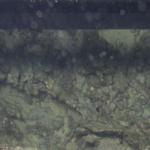dead: (1, 28, 148, 149)
